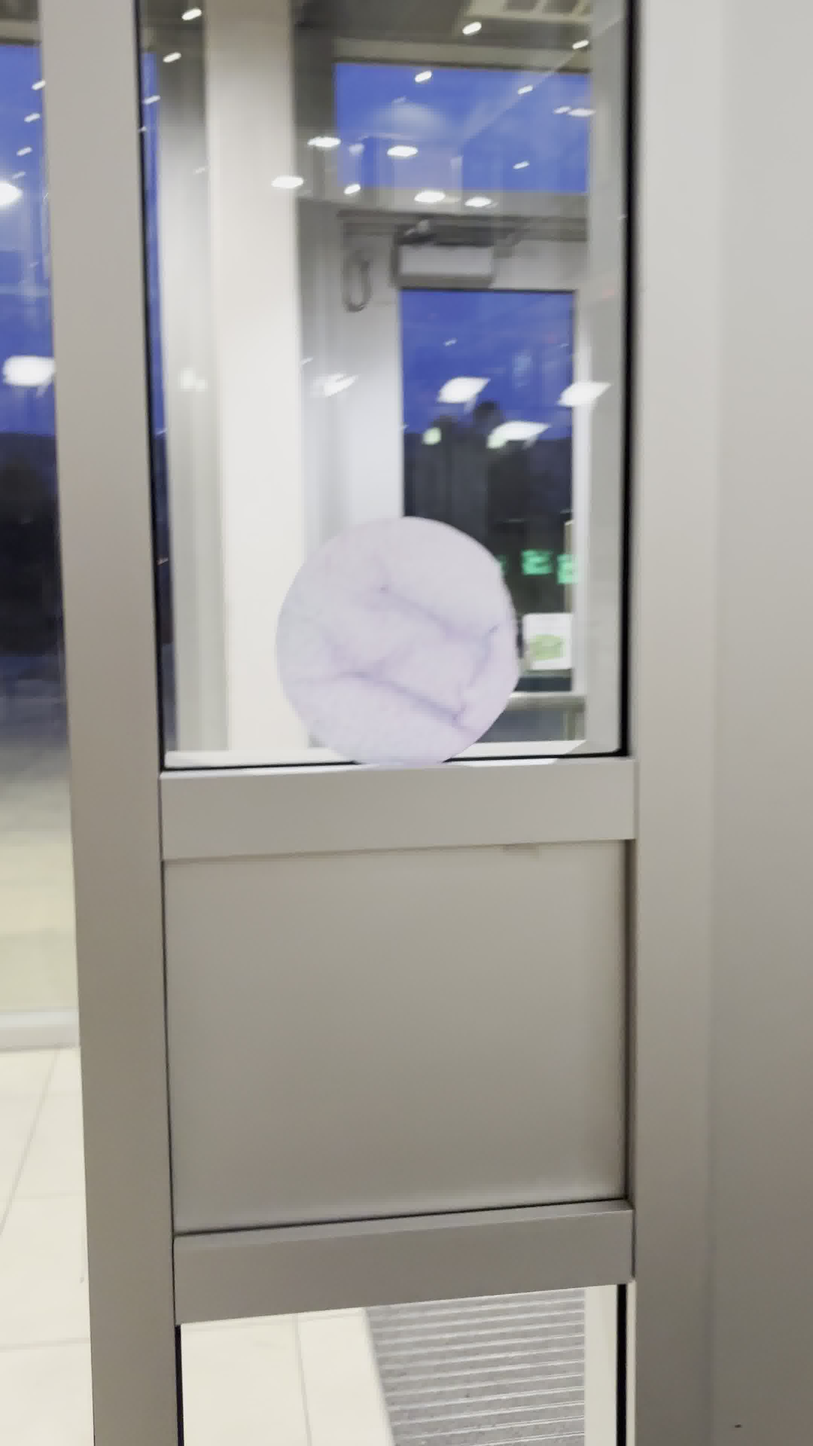Target: (276, 516, 517, 768)
